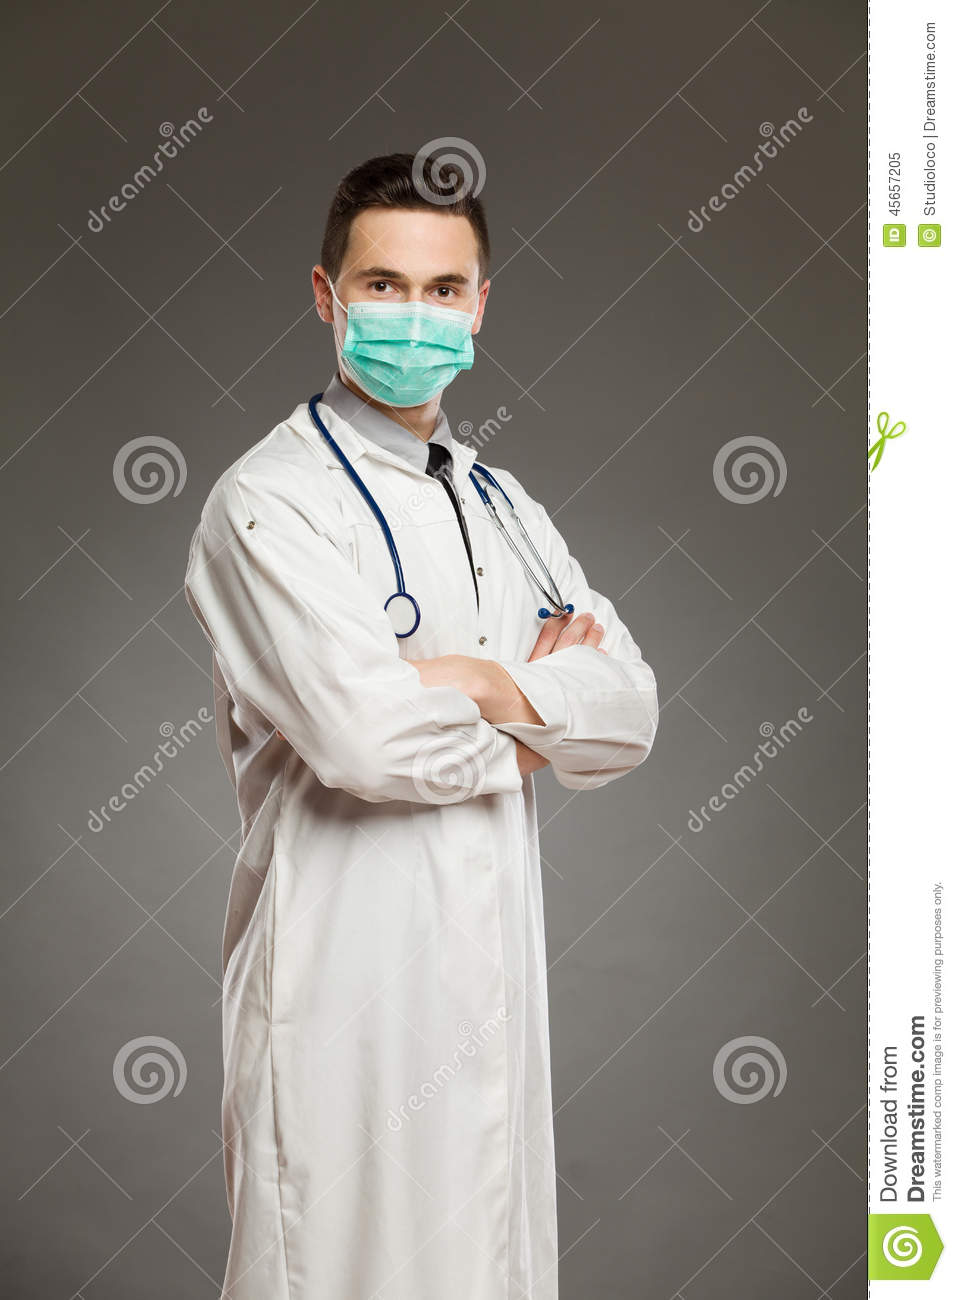mask: (338, 297, 494, 399)
